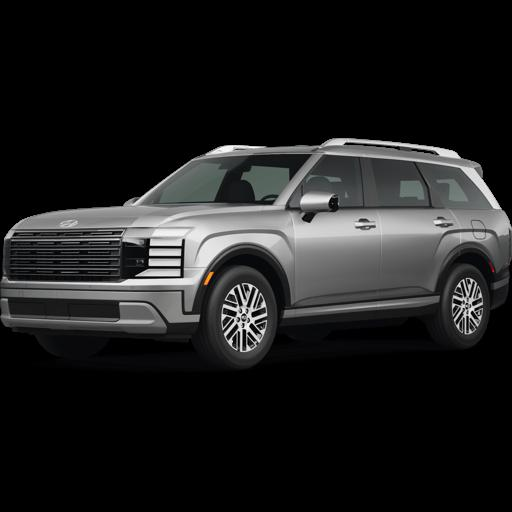suv: (0, 138, 511, 368)
